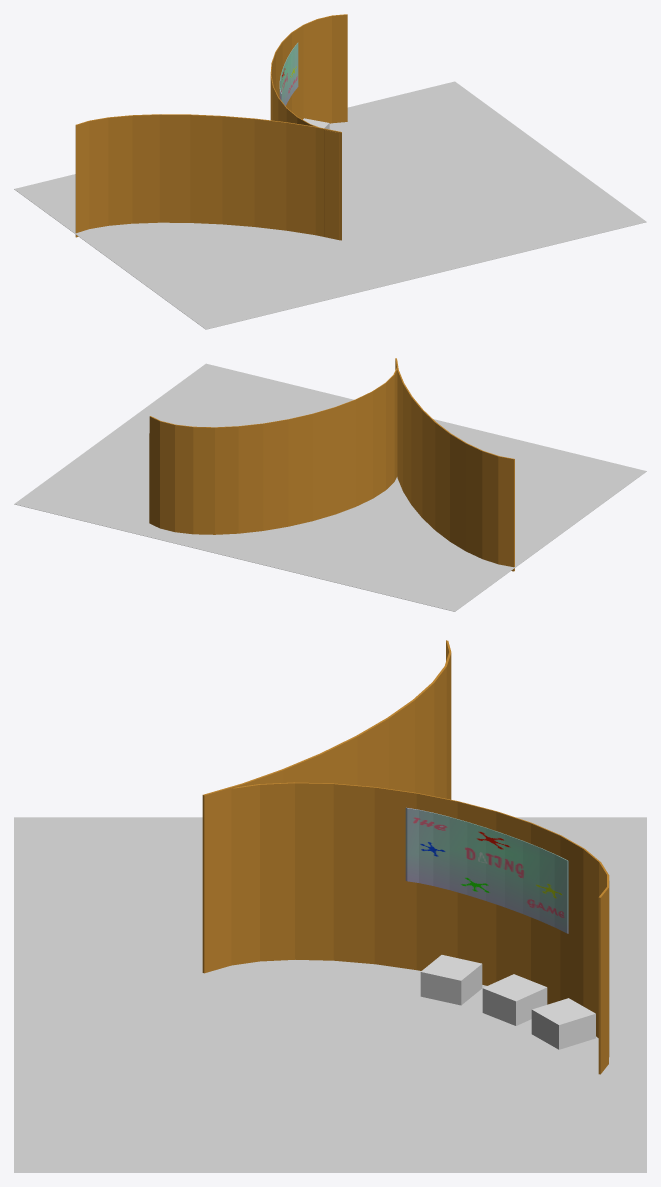
File: set.dae
3 views of the same model, one above another, from view 1: azimuth 30°, elevation 25°; view 2: azimuth 150°, elevation 25°; view 3: azimuth 270°, elevation 25° (orthographic). The views are drawn at different scales.
Parts seen in each view (by area): view 1: Cube, walls, Cylinder; view 2: Cube, walls; view 3: Cube, walls, Cylinder, Cube_002, Cube_003, Cube_001.
Part boxes in pixels (bbox=[...]): Cube: bbox=[14, 81, 646, 329]; walls: bbox=[75, 14, 347, 240]; Cylinder: bbox=[279, 42, 298, 105]; Cube: bbox=[14, 363, 646, 611]; walls: bbox=[149, 358, 514, 571]; Cube: bbox=[14, 817, 646, 1172]; walls: bbox=[202, 640, 609, 1074]; Cylinder: bbox=[405, 807, 568, 933]; Cube_002: bbox=[531, 998, 595, 1049]; Cube_003: bbox=[420, 955, 482, 1005]; Cube_001: bbox=[482, 974, 547, 1025].
Bounding box in the file's own units: 36.61 × 27.61 × 9.37.
Materials: 3 (1 with a texture image).
